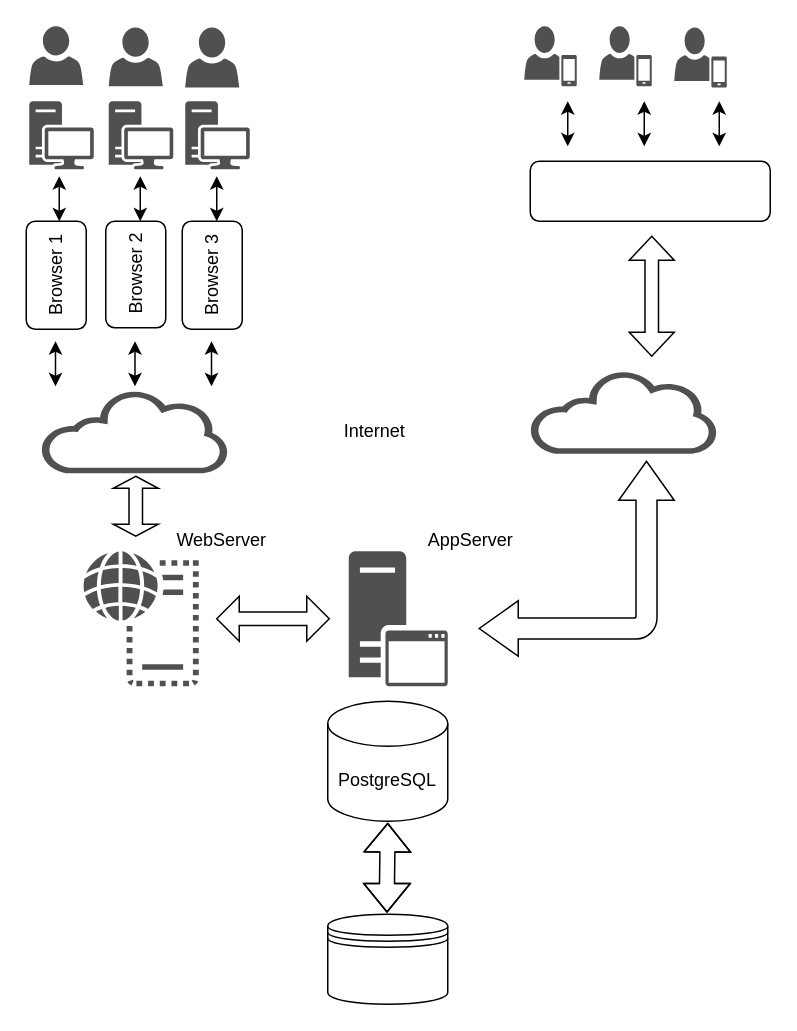
Some shapes in this 797 by 1031 pixel diagram are drawn without their labels. The shapes that lost their labels are listed below. From the top down, each one's centre as x and y in pixels, then its label:
the point at 649,190: Telegram
the point at 387,958: DB
